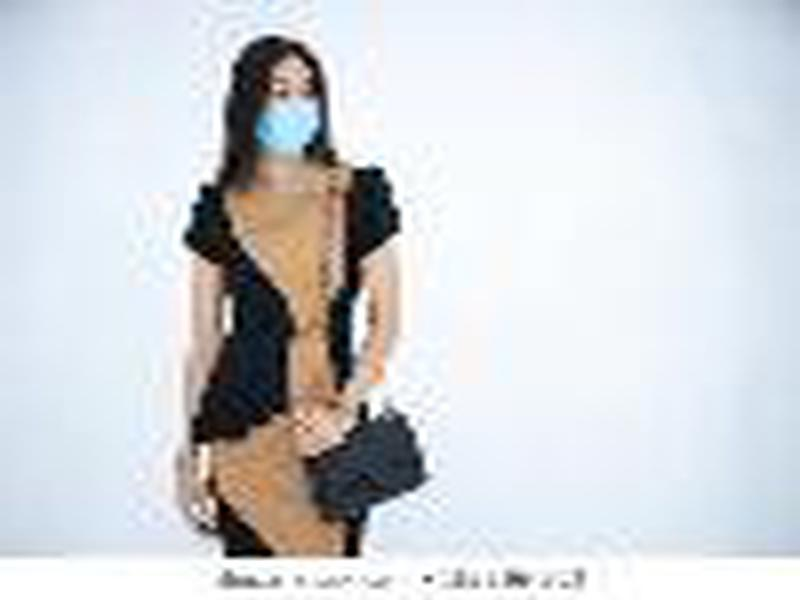with_mask: (222, 33, 328, 157)
